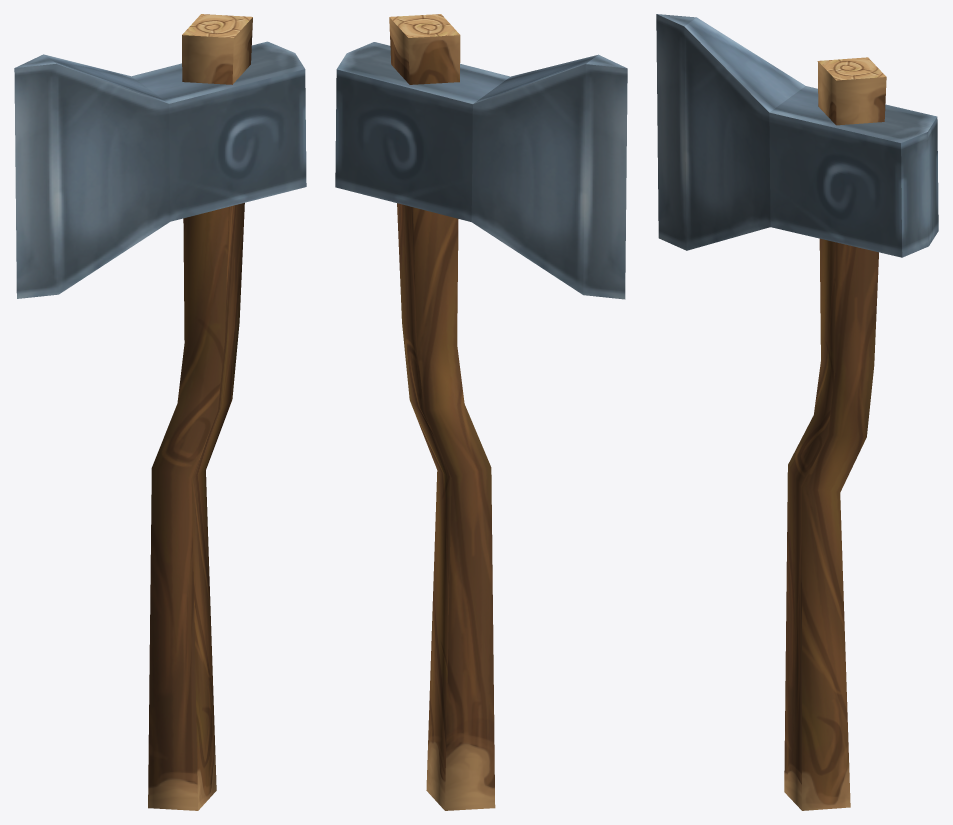
File: axe.fbx
3 views of the same model, side by side, from view 1: azimuth 30°, elevation 25°; view 2: azimuth 150°, elevation 25°; view 3: azimuth 330°, elevation 25° (orthographic). The views are drawn at different scales.
Parts seen in each view (by area): view 1: axe:Mesh; view 2: axe:Mesh; view 3: axe:Mesh.
Part boxes in pixels (box(x1,y1,x2,y2)): axe:Mesh: box(14, 14, 306, 810); axe:Mesh: box(335, 14, 627, 810); axe:Mesh: box(656, 14, 938, 810).
Size of the model in its own units: 1.19 by 3.11 by 0.2748.
